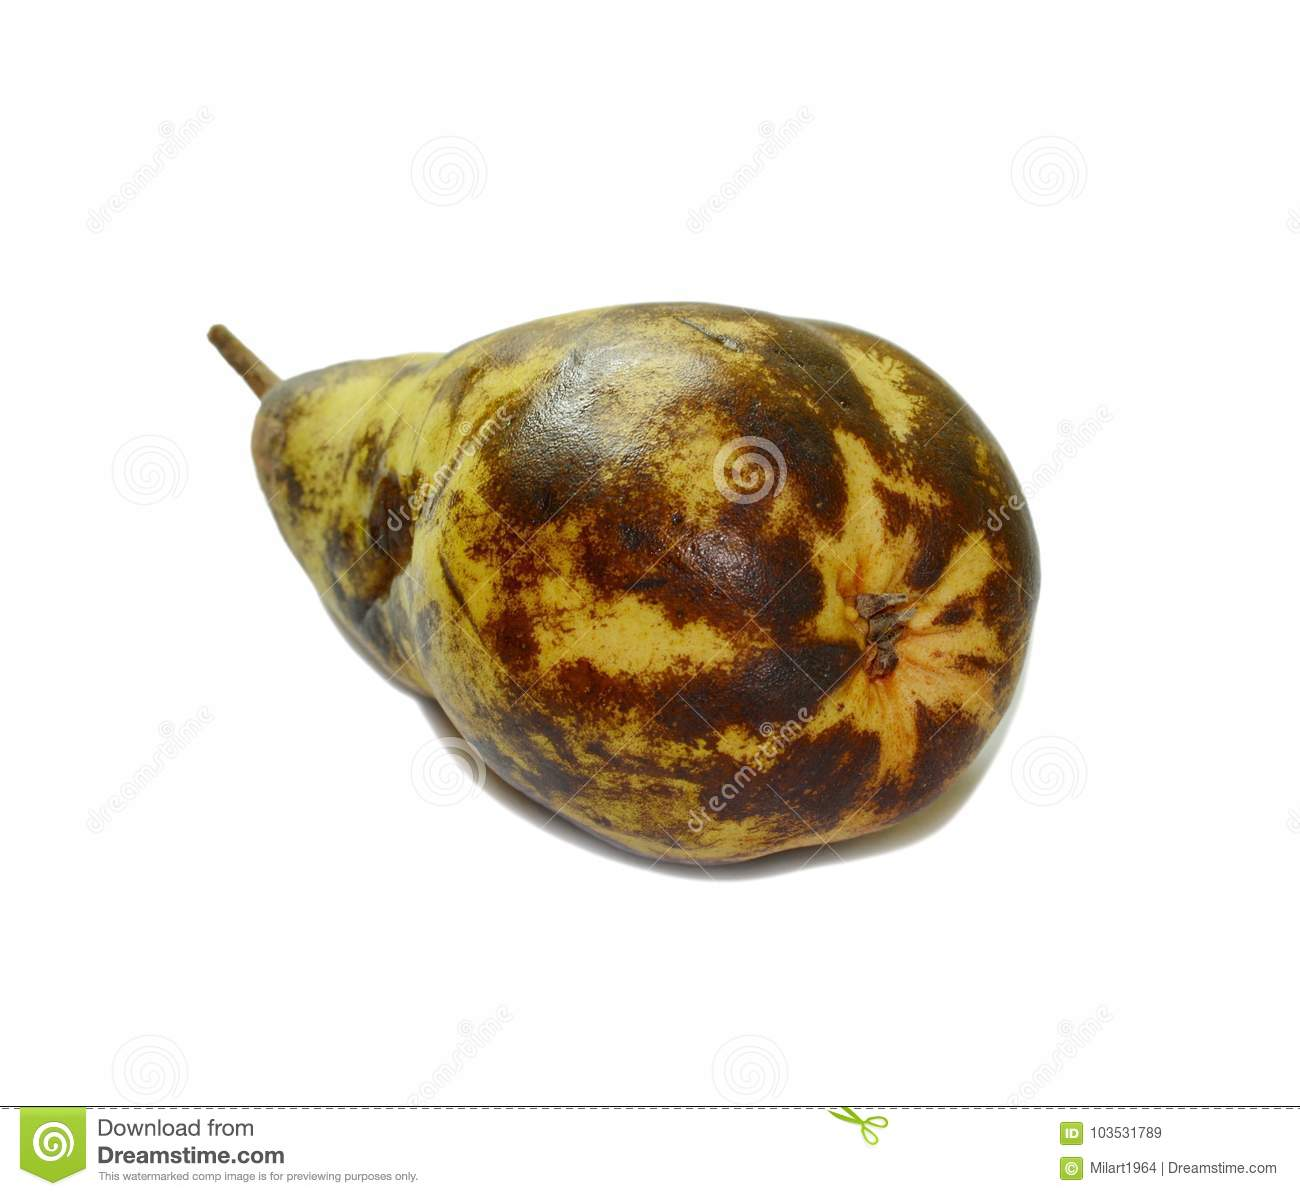damaged_pear: (245, 326, 1054, 855)
